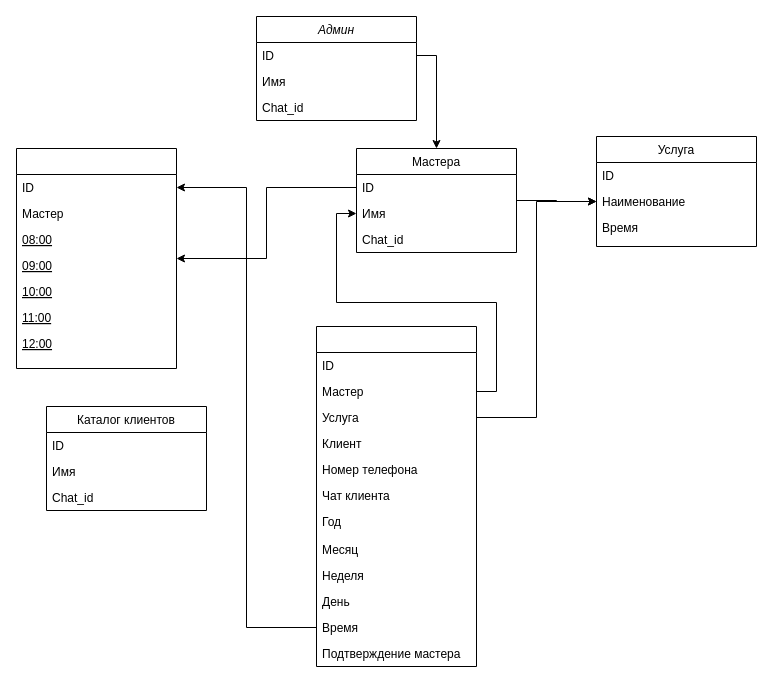
Some shapes in this 773 by 683 pixel diagram are drawn without their labels. The shapes that lost their labels are listed below. From the top down, each one's box as (x1, y1, x2, y2) in pixels, then its label:
(16, 148, 176, 368): Рабочие часы
(316, 326, 476, 666): Запись
